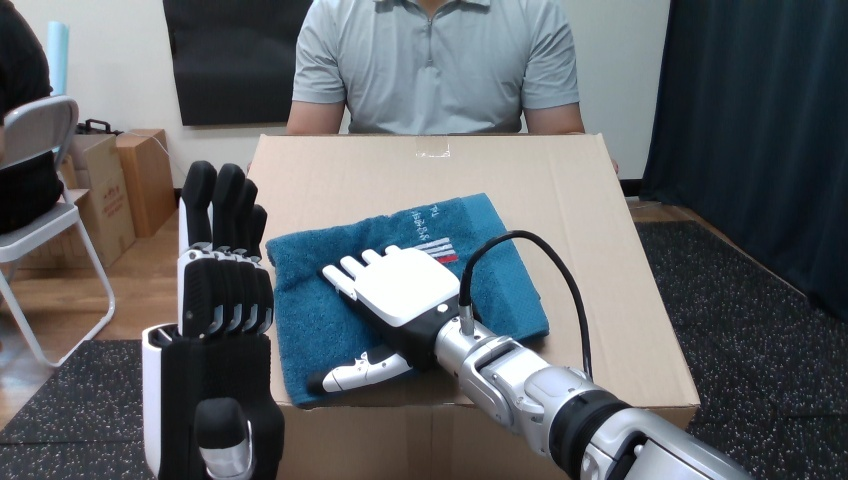left robot hand: (310, 231, 750, 479), (142, 161, 283, 478), (470, 237, 584, 370)
